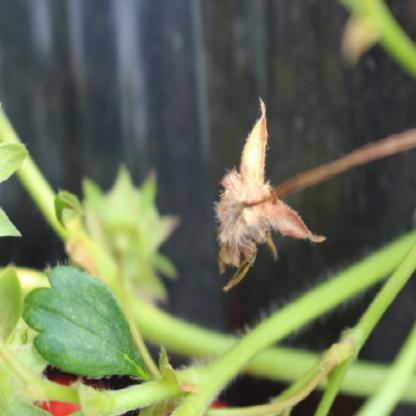Strawberry_Gray_Mold: (213, 98, 327, 293)
